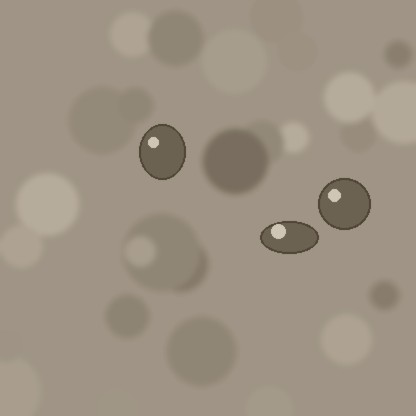gota: (318, 180, 370, 234), (139, 126, 185, 184), (260, 222, 318, 256)
